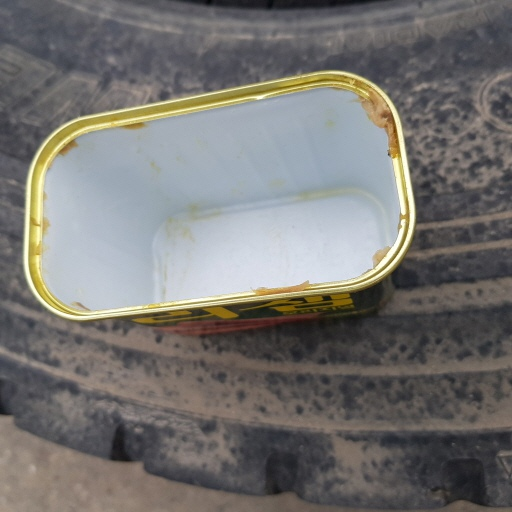Metal_2: (23, 72, 417, 335)
